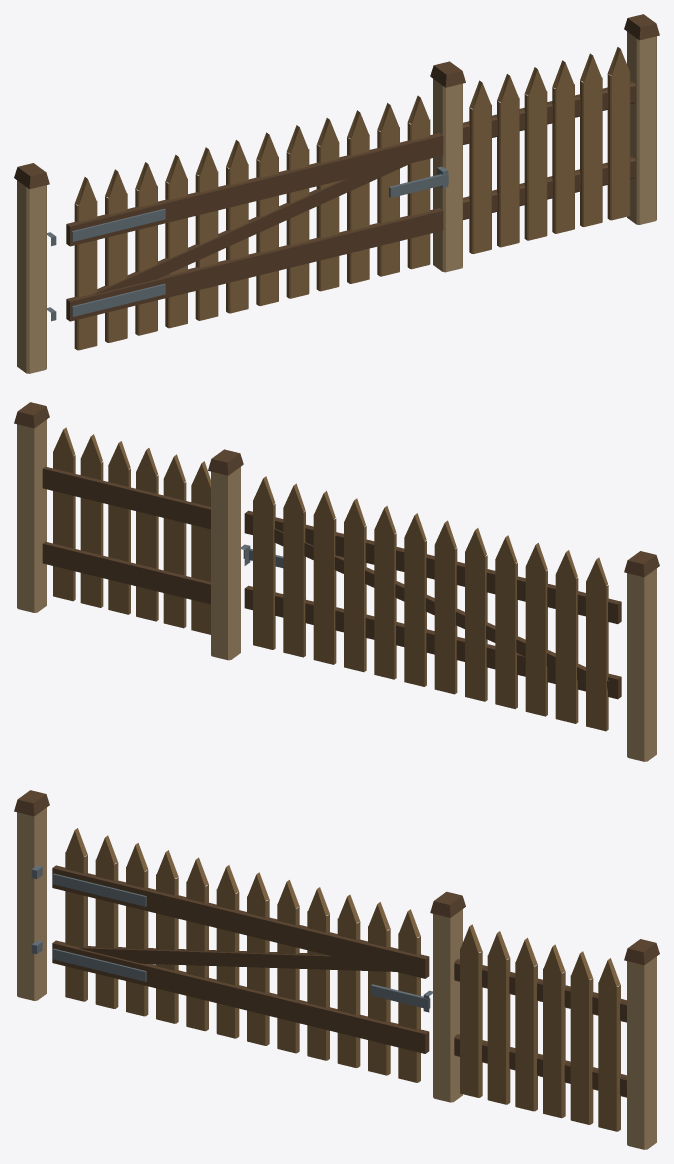
The model's file is yard-fence-gate-bay-eb6a30.glb.
3 renders of one model, top to bottom at view 1: azimuth 30°, elevation 25°; view 2: azimuth 150°, elevation 25°; view 3: azimuth 330°, elevation 25°, orthographic.
Parts seen in each view (by area): view 1: gate-leaf, bay; view 2: gate-leaf, bay; view 3: gate-leaf, bay.
Boxes of the visible parts, <box> form: gate-leaf: <box>66,95,448,350</box>; bay: <box>14,14,659,373</box>; gate-leaf: <box>243,476,621,731</box>; bay: <box>14,402,659,761</box>; gate-leaf: <box>52,828,430,1082</box>; bay: <box>14,790,659,1149</box>.
Size of the model in its own units: 4 by 1.2 by 0.195.
